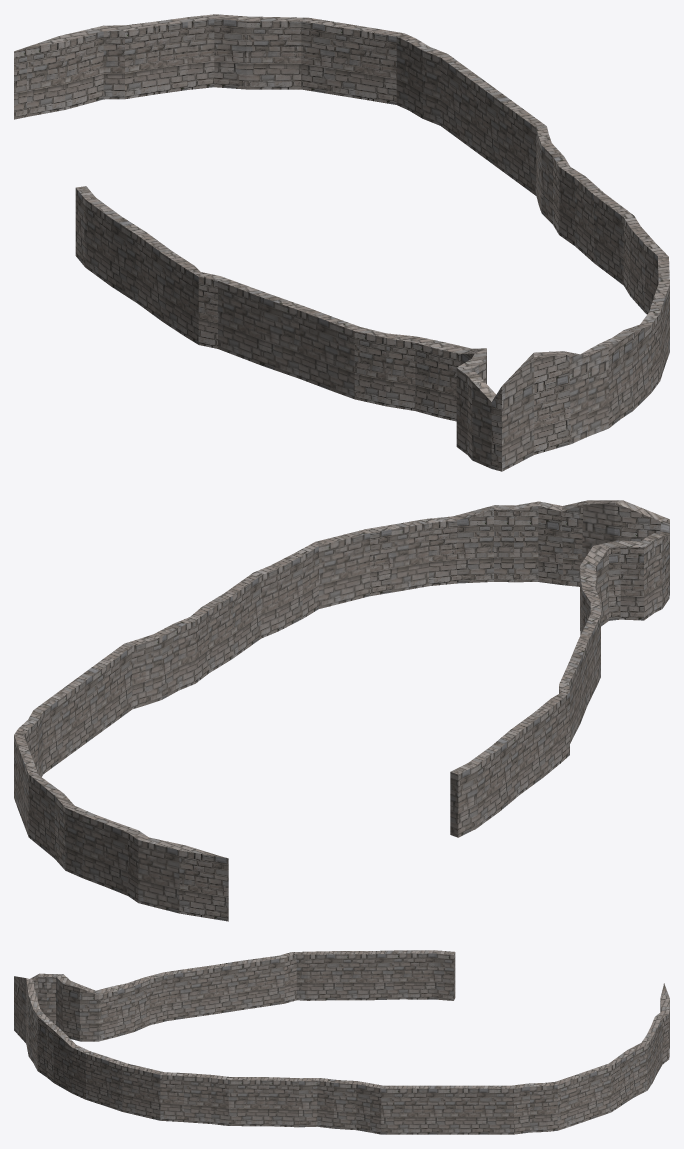
File: Level_K_HigherSupport.fbx
3 views of the same model, one above another, from view 1: azimuth 30°, elevation 25°; view 2: azimuth 150°, elevation 25°; view 3: azimuth 270°, elevation 25° (orthographic). The views are drawn at different scales.
Parts seen in each view (by area): view 1: HigherSupport; view 2: HigherSupport; view 3: HigherSupport.
Part boxes in pixels (x1=…): HigherSupport: x1=14, y1=14, x2=669, y2=471; HigherSupport: x1=14, y1=500, x2=669, y2=921; HigherSupport: x1=14, y1=950, x2=669, y2=1134.
Bounding box in the file's own units: 2148 × 476 × 4303.
